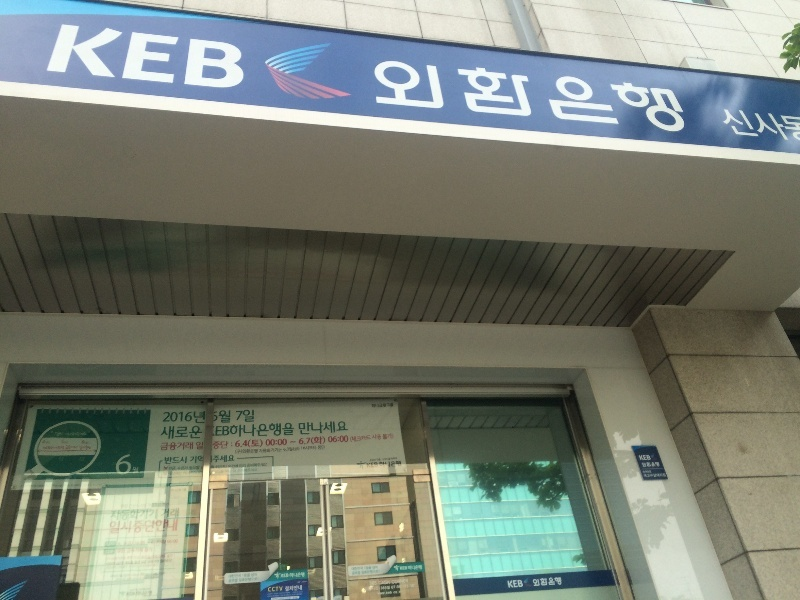text: (385, 58, 400, 139), (401, 58, 416, 139), (417, 58, 432, 139), (433, 58, 448, 139), (449, 58, 464, 139), (465, 58, 480, 139), (481, 58, 496, 139), (497, 58, 512, 139), (513, 58, 528, 139), (529, 58, 544, 139), (545, 58, 560, 139), (561, 58, 576, 139), (577, 58, 592, 139), (593, 58, 608, 139), (609, 58, 624, 139), (625, 58, 640, 139), (641, 58, 656, 139), (657, 58, 672, 139), (673, 58, 688, 139), (65, 21, 80, 99), (81, 21, 96, 99), (97, 21, 112, 99), (113, 21, 128, 99), (129, 21, 144, 99), (145, 21, 160, 99), (161, 21, 176, 99), (177, 21, 192, 99), (193, 21, 208, 99), (209, 21, 224, 99), (225, 21, 240, 99), (371, 58, 384, 139), (689, 58, 697, 139), (721, 111, 736, 147), (737, 111, 752, 147), (753, 111, 768, 147), (769, 111, 784, 147), (785, 111, 800, 147), (241, 21, 246, 99), (60, 21, 64, 99), (113, 518, 128, 535), (129, 518, 144, 535), (145, 518, 160, 535), (161, 518, 176, 535), (117, 453, 128, 476), (241, 422, 256, 437), (257, 422, 272, 437), (273, 422, 288, 437), (225, 409, 240, 424), (305, 421, 320, 435), (321, 421, 336, 435), (241, 409, 255, 424), (177, 425, 192, 439), (177, 410, 192, 424), (163, 425, 176, 439), (193, 410, 206, 424), (113, 508, 128, 520), (129, 508, 144, 520), (145, 508, 160, 520), (161, 508, 176, 520), (337, 421, 349, 435), (164, 410, 176, 424), (353, 566, 368, 577), (241, 573, 256, 584), (161, 441, 176, 452), (177, 441, 192, 452), (241, 438, 256, 449), (177, 465, 192, 475), (230, 422, 240, 437), (193, 425, 203, 439), (305, 436, 320, 445), (532, 577, 544, 588), (228, 573, 240, 584), (273, 438, 287, 447), (545, 577, 556, 588), (193, 441, 204, 452), (369, 584, 384, 592), (385, 584, 400, 592), (193, 465, 205, 475), (164, 456, 176, 466), (212, 454, 224, 464), (353, 435, 368, 443), (401, 584, 415, 592), (289, 585, 303, 593), (513, 580, 524, 590), (369, 566, 379, 577), (212, 441, 224, 450), (369, 579, 384, 586), (385, 579, 400, 586), (289, 572, 304, 579), (65, 430, 80, 437), (49, 439, 64, 446), (65, 439, 80, 446), (177, 456, 187, 466), (225, 454, 235, 464), (273, 585, 284, 594), (133, 466, 144, 475), (241, 468, 257, 474), (337, 435, 349, 443), (51, 430, 64, 437), (167, 465, 176, 475), (225, 463, 240, 469), (241, 463, 256, 469), (289, 422, 295, 437), (49, 445, 64, 451), (65, 445, 80, 451), (388, 460, 400, 467), (372, 433, 384, 440), (642, 462, 656, 468), (225, 441, 234, 450), (216, 426, 224, 436), (211, 463, 224, 469), (257, 438, 264, 449), (385, 591, 400, 596), (241, 449, 256, 454), (305, 445, 320, 450), (219, 409, 224, 424), (370, 457, 384, 462), (299, 421, 304, 435), (129, 453, 132, 476), (257, 463, 268, 469), (641, 455, 652, 461), (81, 445, 92, 451), (385, 457, 398, 462), (259, 448, 272, 453), (371, 403, 384, 408), (328, 435, 336, 443), (385, 433, 394, 440), (644, 473, 656, 478), (401, 579, 409, 586), (81, 439, 89, 446), (235, 438, 240, 449), (289, 447, 300, 452), (554, 577, 560, 586), (231, 468, 240, 474), (266, 438, 272, 447), (369, 462, 378, 468), (507, 580, 512, 590), (273, 448, 283, 453), (225, 426, 230, 436), (657, 473, 667, 478), (81, 430, 88, 437), (408, 565, 416, 571), (267, 585, 272, 594), (299, 436, 304, 445), (321, 436, 326, 445), (385, 403, 394, 408), (290, 441, 304, 444), (280, 573, 288, 578), (643, 470, 656, 473), (177, 508, 180, 520), (377, 591, 384, 596), (401, 566, 408, 571), (43, 439, 48, 446), (110, 518, 112, 535), (177, 518, 179, 535), (193, 456, 197, 464), (417, 565, 422, 571), (234, 449, 240, 454), (379, 462, 384, 467), (321, 445, 326, 450), (285, 585, 288, 593), (44, 445, 48, 451), (284, 447, 288, 452), (657, 462, 660, 468), (190, 456, 192, 464), (350, 435, 352, 443), (369, 435, 371, 443), (301, 445, 304, 450), (111, 508, 112, 520), (351, 566, 352, 577), (257, 573, 258, 584), (385, 462, 387, 467), (561, 577, 562, 586), (367, 462, 368, 468), (639, 455, 640, 461), (401, 591, 402, 596), (257, 449, 258, 454)
